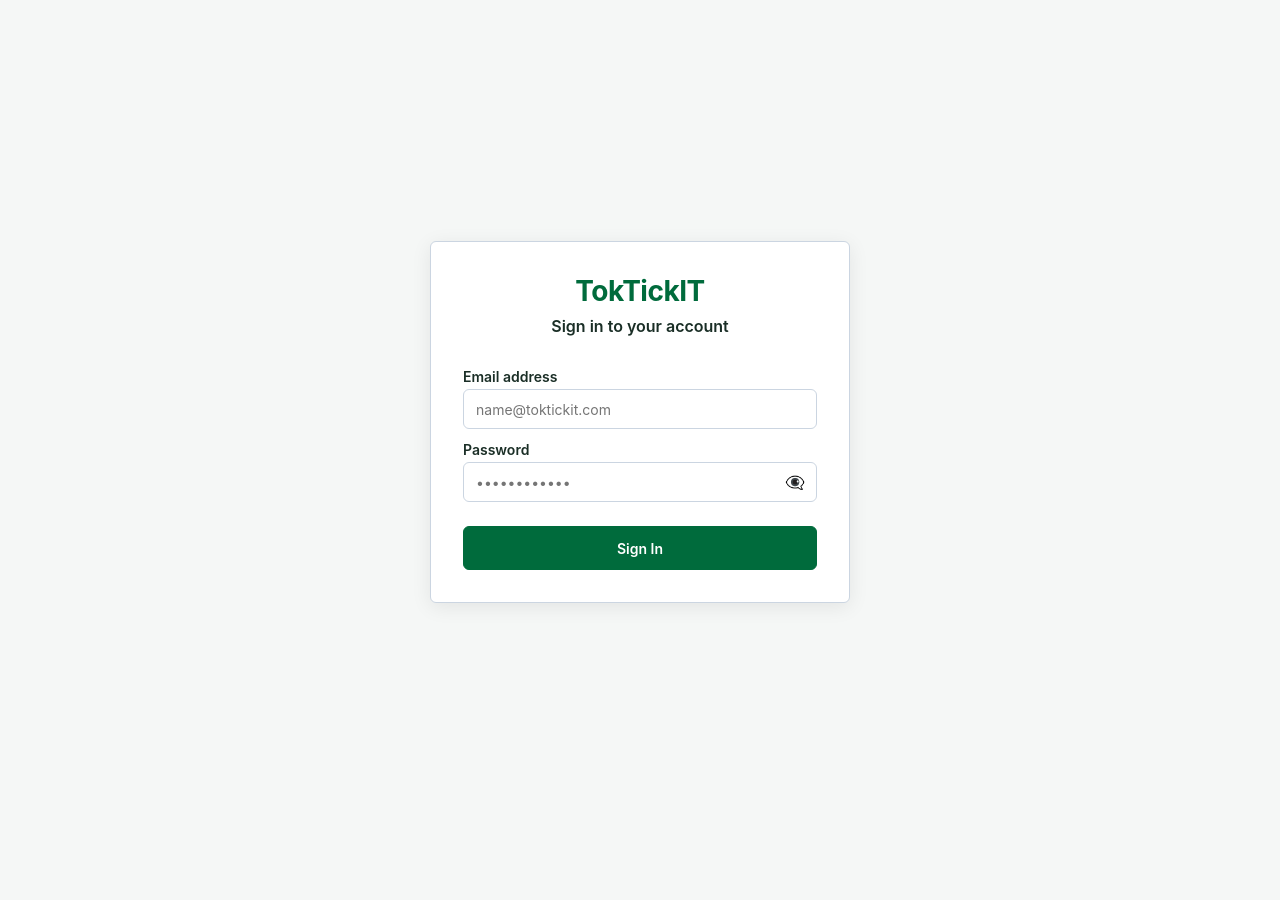
Test: Lab 3 Issue 2 Bug Fixes - Auth Flow Integration Tests › Bug 4: logging in with mustChangePassword = true immediately redirects to /change-password
The width and height of the screenshot is (1280, 900).
In the field with test id "login-email-input": (640, 409) [463,389,817,429], type "kevin.staff@toktickit.com"
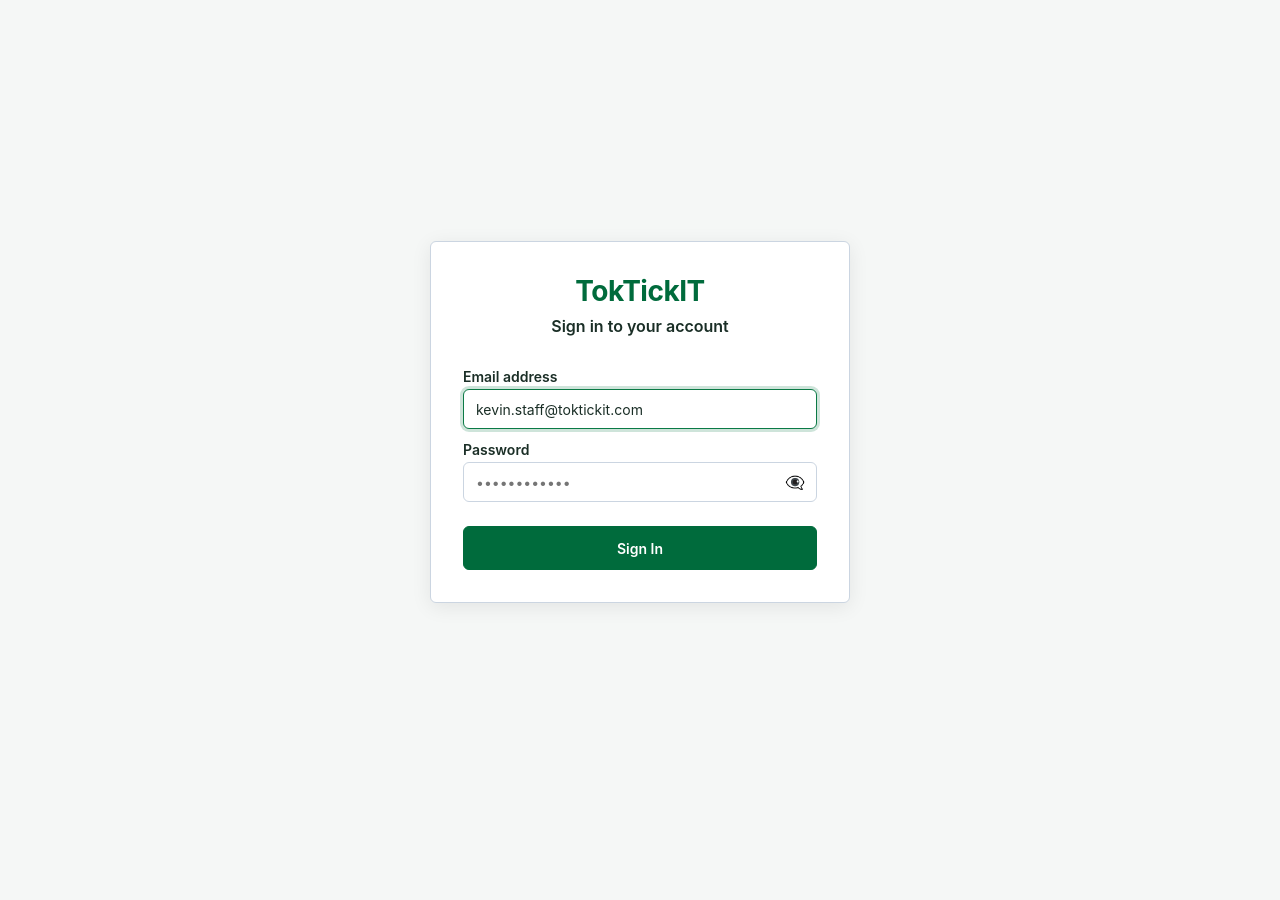
In the password field with test id "login-password-input": (640, 482) [463,462,817,502], type "TokTickIT2026!"
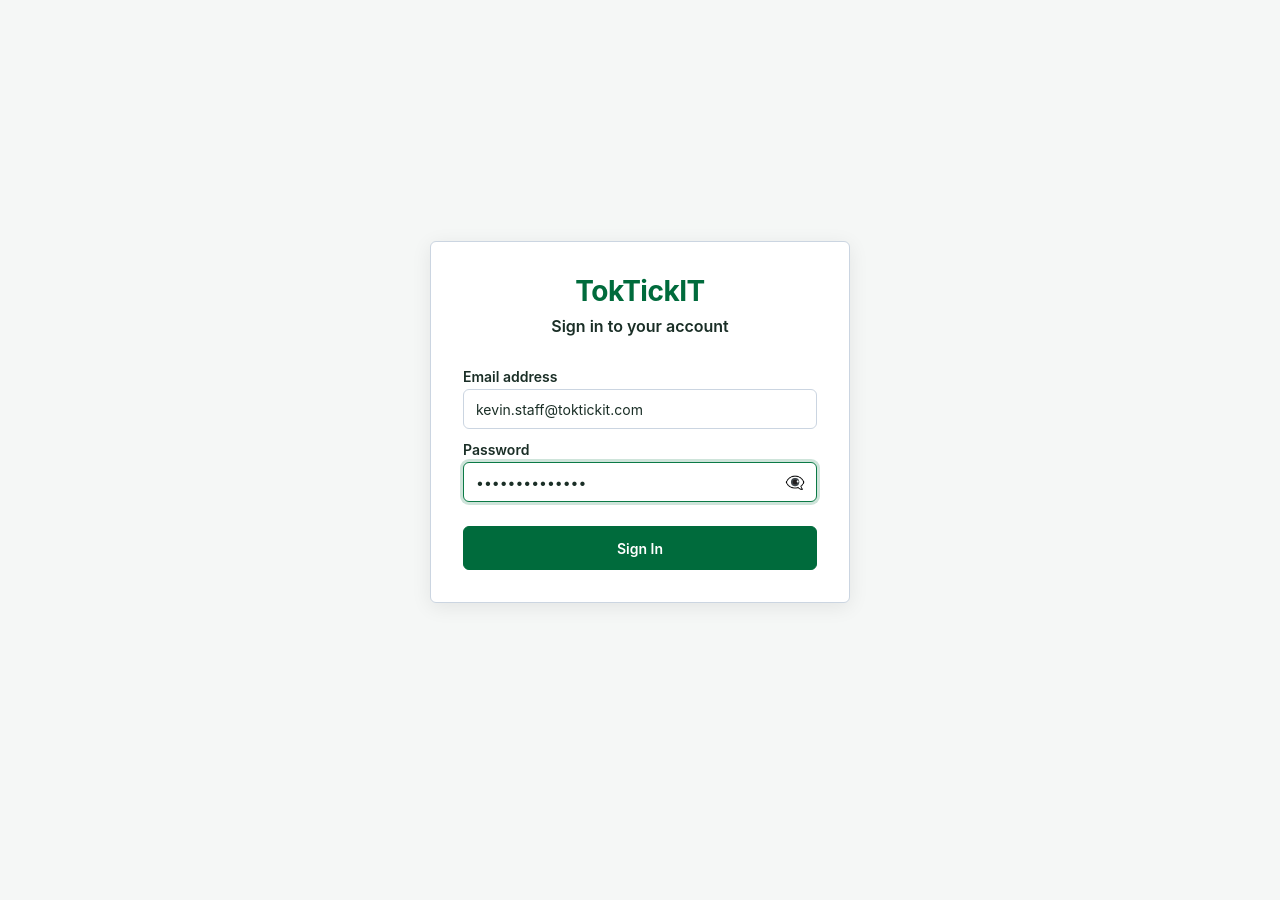
Click the button with test id "login-submit-btn": (640, 548) [463,526,817,570]
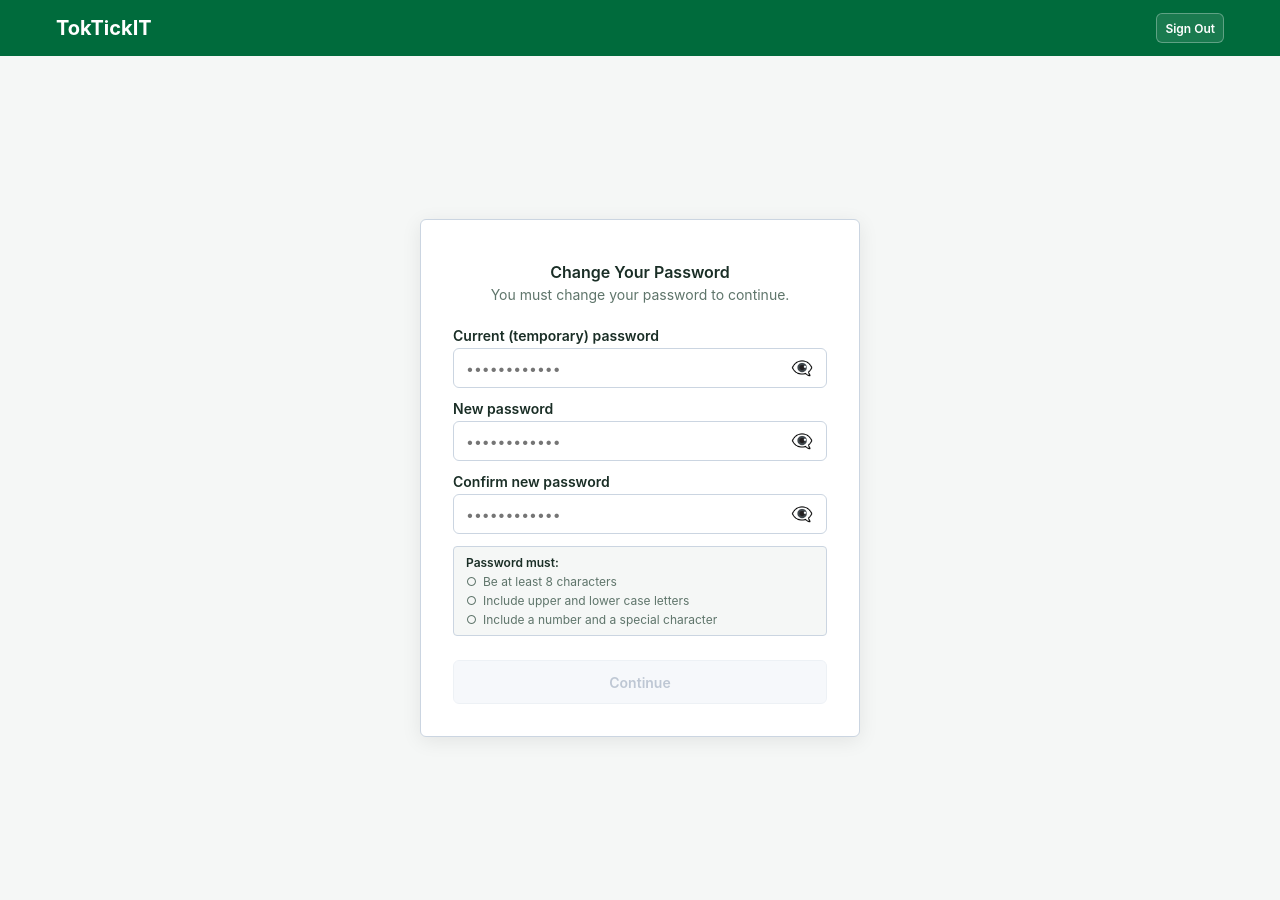
Check: the heading "Change Your Password" is shown, box [550,262,730,282]
Check: the text "You must change your password to continue." is shown, box [491,286,789,303]
Check: the password field with test id "current-password-input" is shown, box [453,348,827,388]
